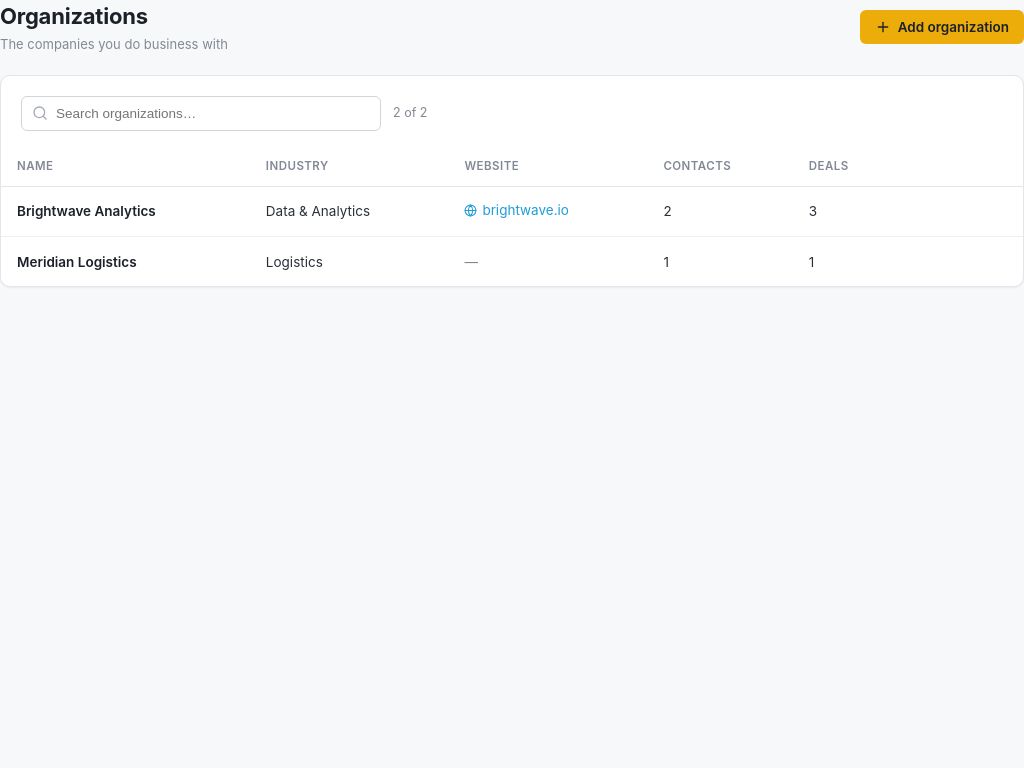
Test: Organizations page › posts a new organization when the add form is submitted
The width and height of the screenshot is (1024, 768).
Check: the text "Brightwave Analytics" is shown, box [17,203,156,219]
Click the button "Add organization": (942, 27) [860,10,1023,44]
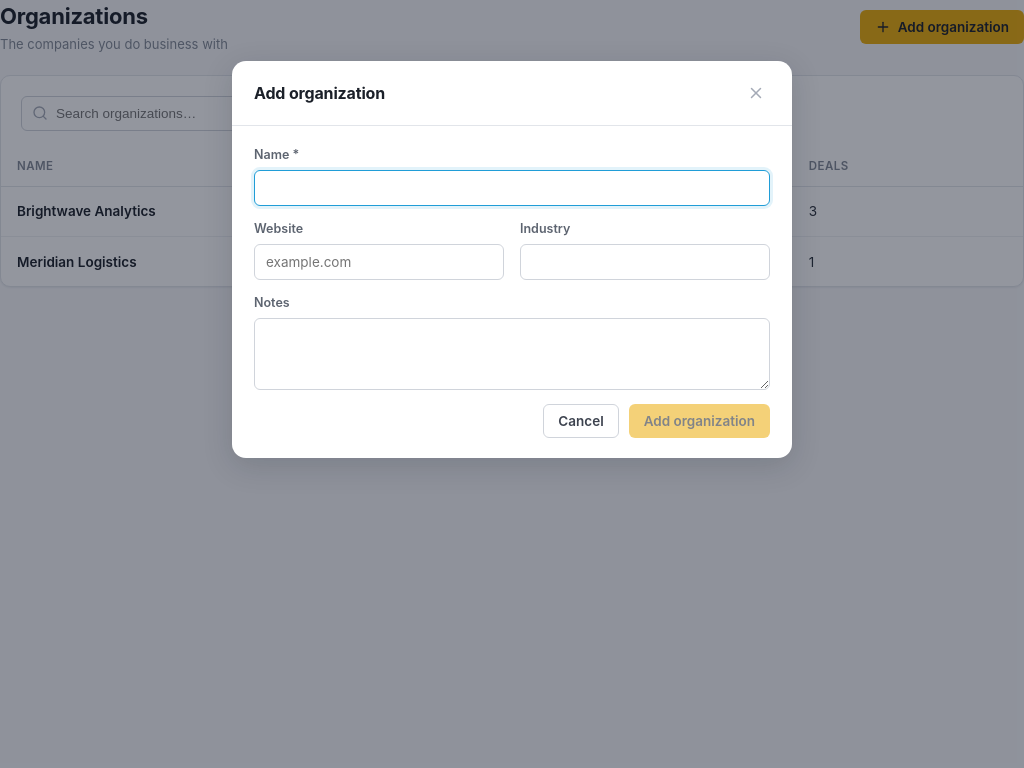
In the field labelled "Name *": (512, 188) [254,170,770,206], type "Acme Corp"
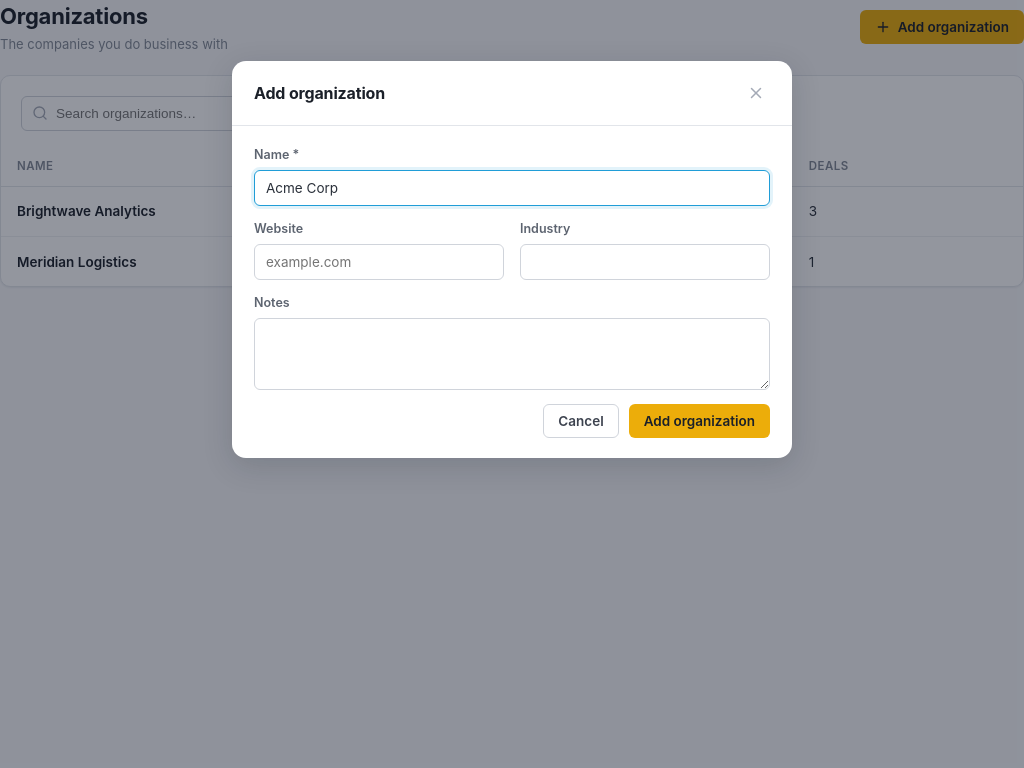
Click the button "Add organization": (699, 421) [629,404,770,438]
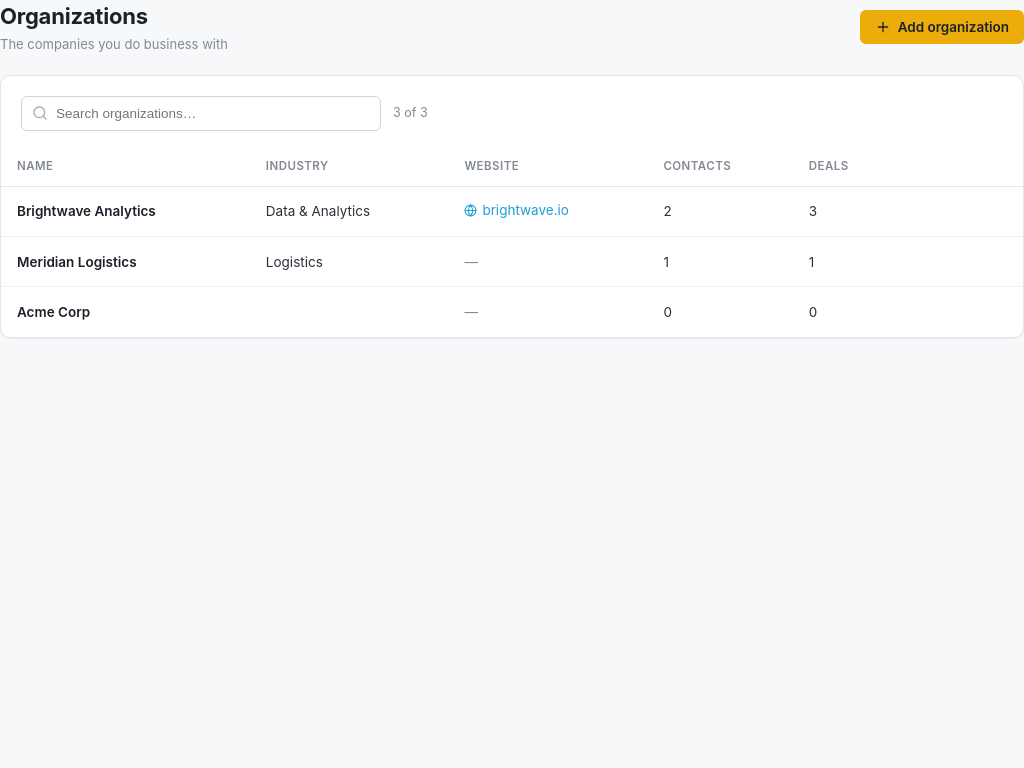
Check: the text "Acme Corp" is shown, box [17,304,90,320]
